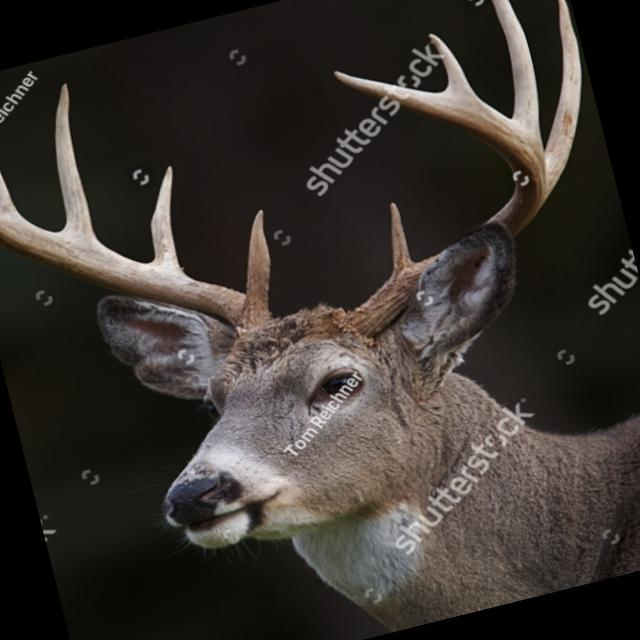L-G1: (389, 201, 414, 272)
L-G2: (543, 0, 581, 194)
L-G3: (491, 0, 540, 140)
L-G4: (426, 33, 474, 94)
R-G1: (242, 207, 271, 311)
R-G2: (150, 165, 185, 273)
R-G3: (55, 82, 96, 238)
R-G4: (0, 171, 19, 215)
